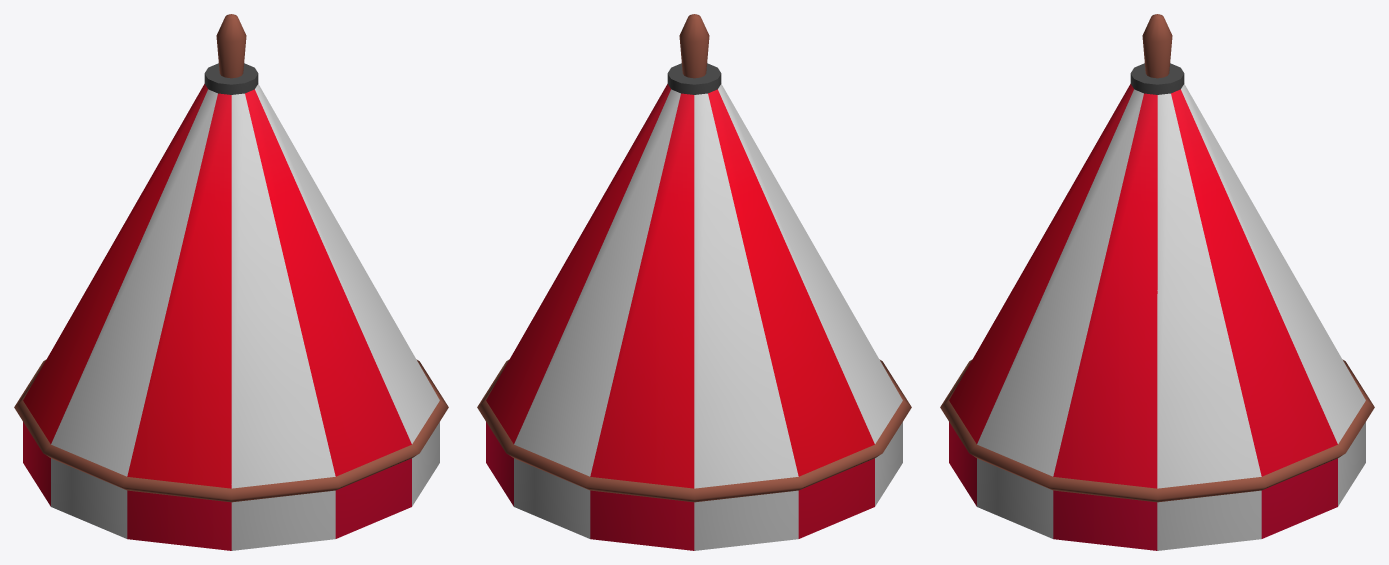
File: Buoy_Cone_A.fbx
3 views of the same model, side by side, from view 1: azimuth 30°, elevation 25°; view 2: azimuth 150°, elevation 25°; view 3: azimuth 270°, elevation 25° (orthographic).
Visible parts, largest first — view 1: Buoy_Cone_A; view 2: Buoy_Cone_A; view 3: Buoy_Cone_A.
Part boxes in pixels (x1,y1,x2,y2): Buoy_Cone_A: [14, 14, 448, 550]; Buoy_Cone_A: [477, 14, 911, 550]; Buoy_Cone_A: [940, 14, 1374, 550].
Bounding box in the file's own units: 82.47 × 98.14 × 82.47.
